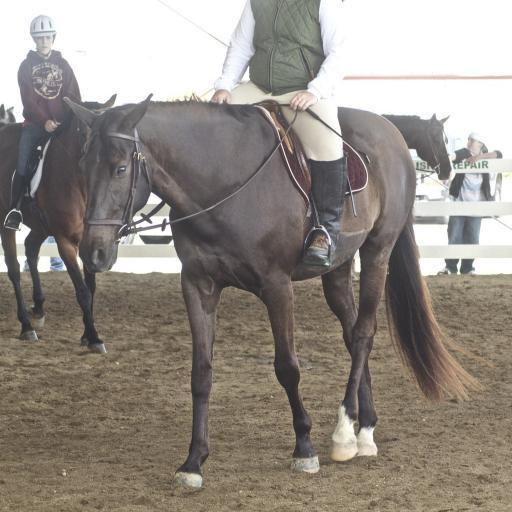horse: (62, 92, 494, 496), (0, 92, 120, 358), (374, 112, 456, 182)
